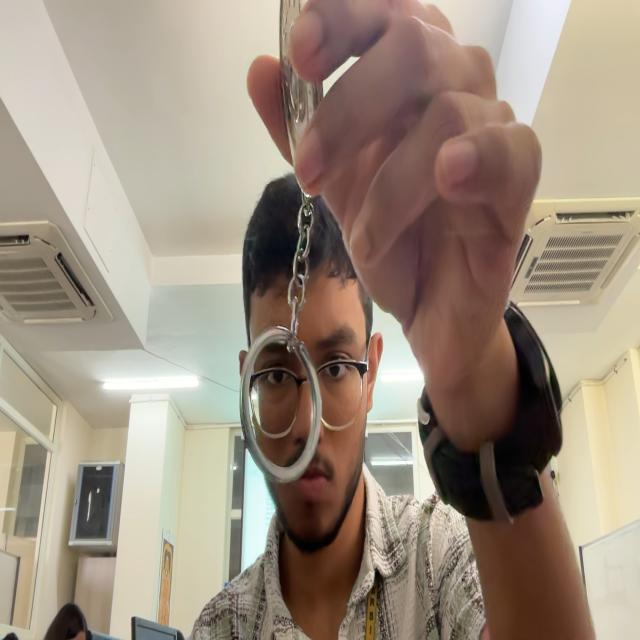dangerous: (240, 189, 315, 418), (237, 359, 322, 493), (279, 0, 322, 156)
